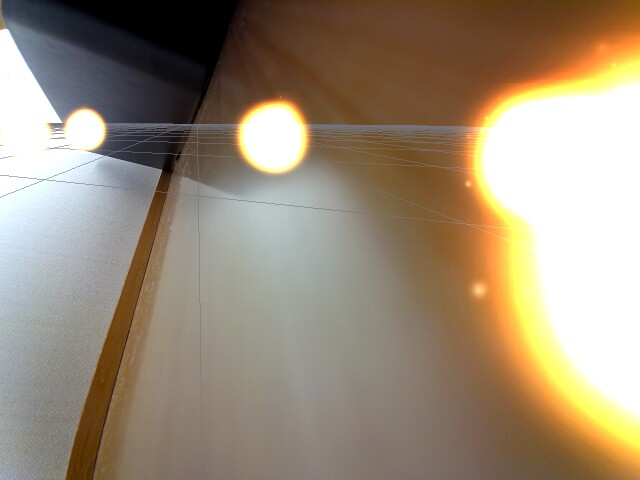firebig: (470, 59, 640, 465)
